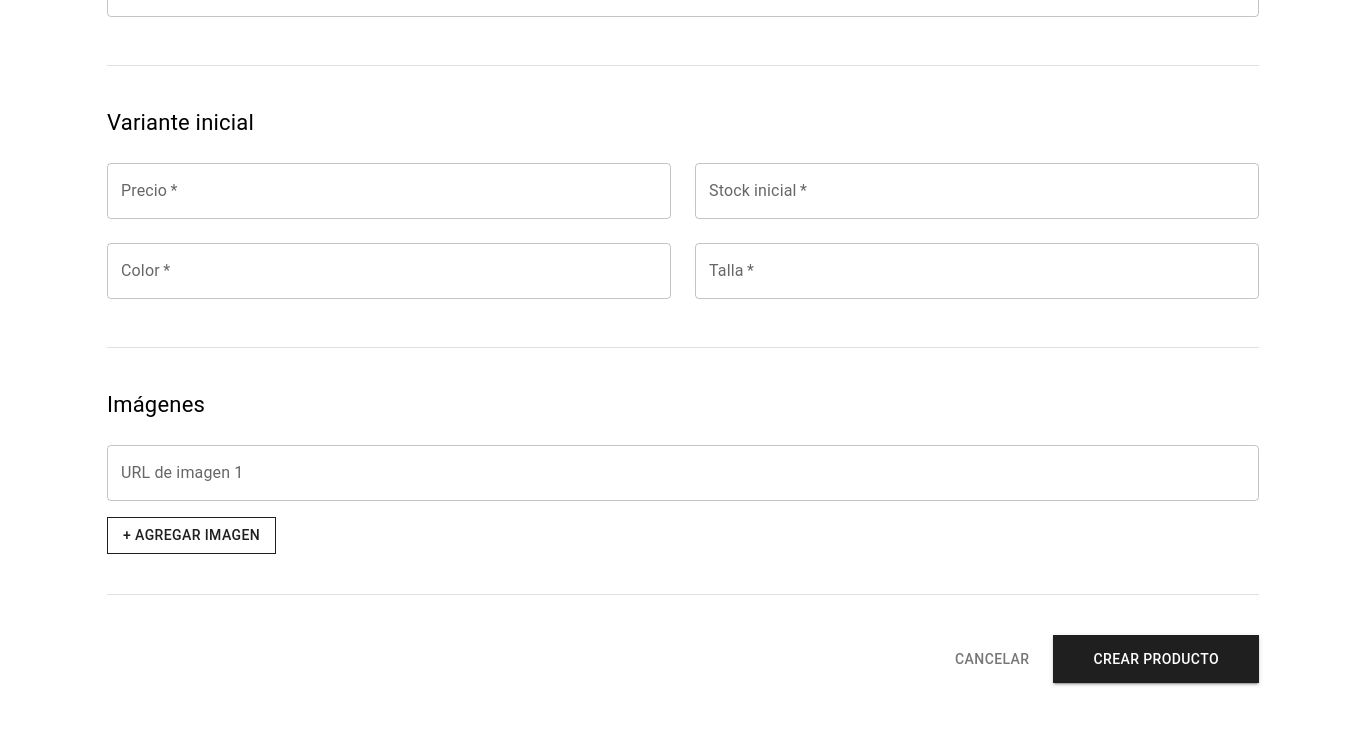
Test: AdminProductCreate › lets the user add and remove extra image fields
The image size is (1366, 755).
(page scrolled)
Expected: the field labelled "URL de imagen 1" is shown, x1=107 y1=445 x2=1259 y2=501
Expected: the field labelled "url de imagen 2" is not shown
Click the button "+ Agregar imagen": point(192, 535) x1=107 y1=517 x2=276 y2=554
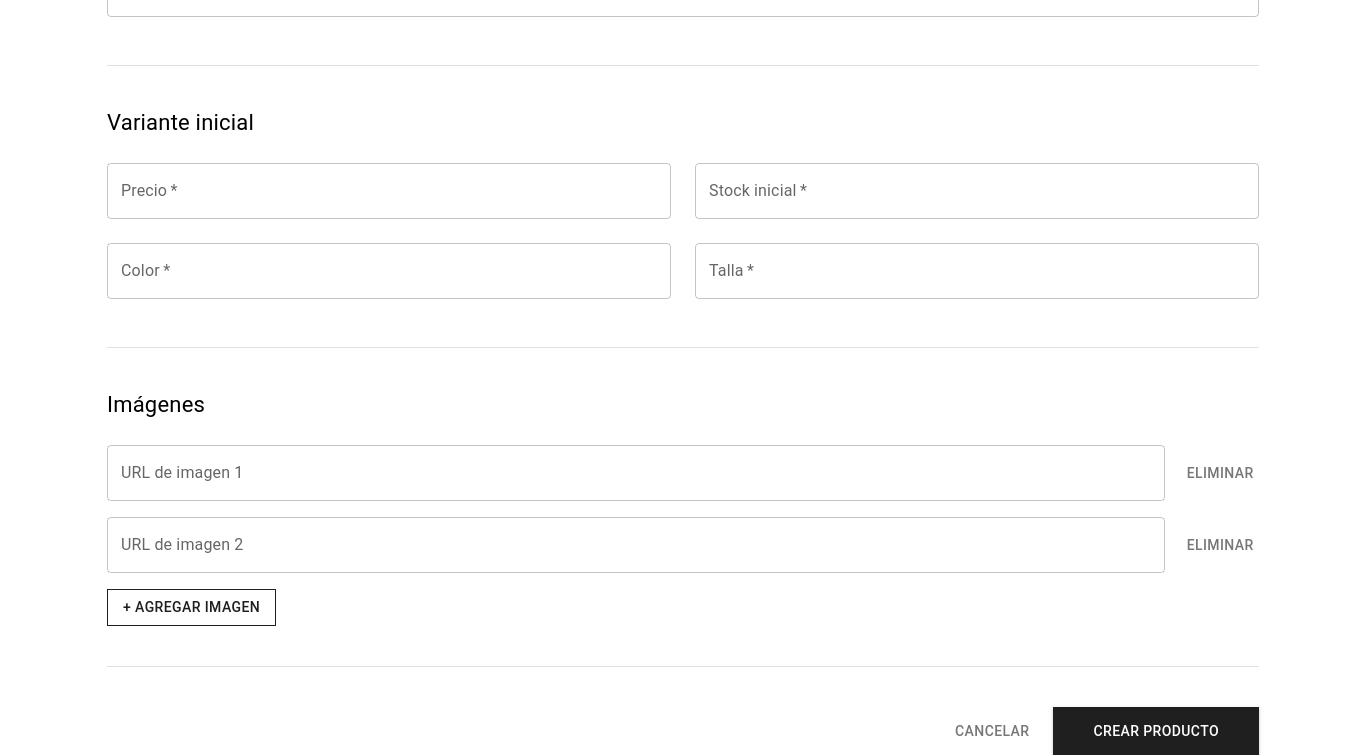
Expected: the field labelled "URL de imagen 2" is shown, x1=107 y1=517 x2=1165 y2=573
Click the button "Eliminar" in the row of "URL de imagen 1": point(1220, 473) x1=1181 y1=445 x2=1259 y2=501
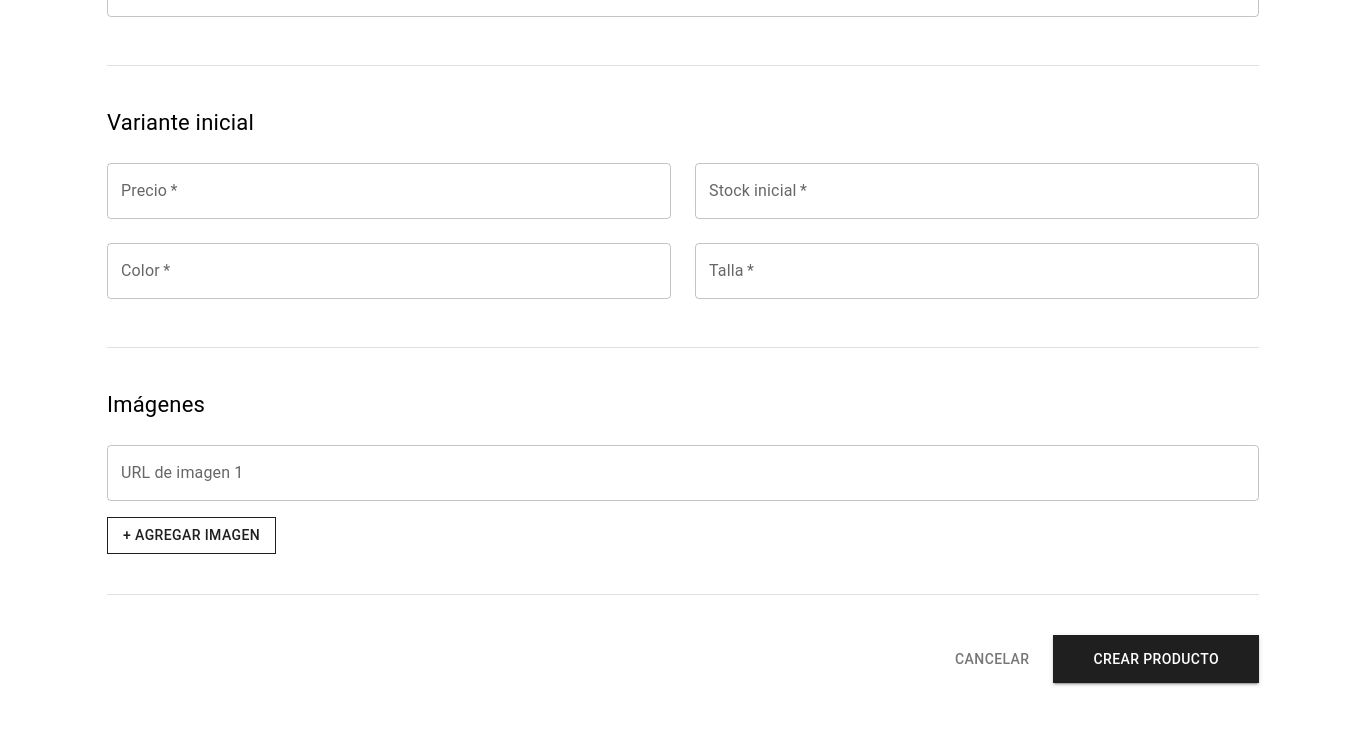
Expected: the label labelled "URL de imagen 2" is gone
